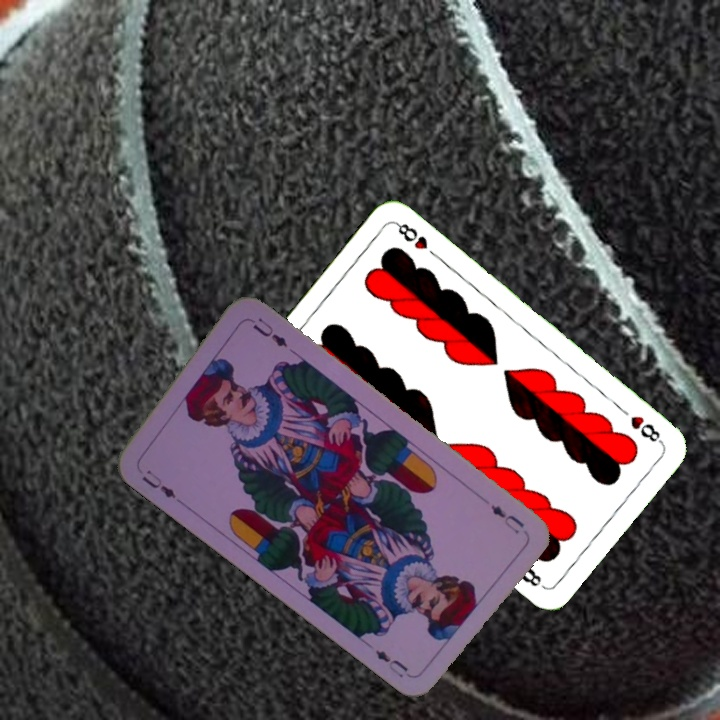EU: (137, 465, 179, 502), (486, 500, 527, 537)
H8: (626, 411, 665, 446)
